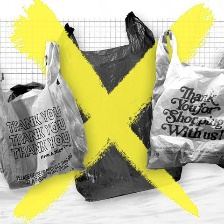plastic_bag: (50, 8, 190, 204), (0, 37, 90, 191), (139, 26, 223, 177)
